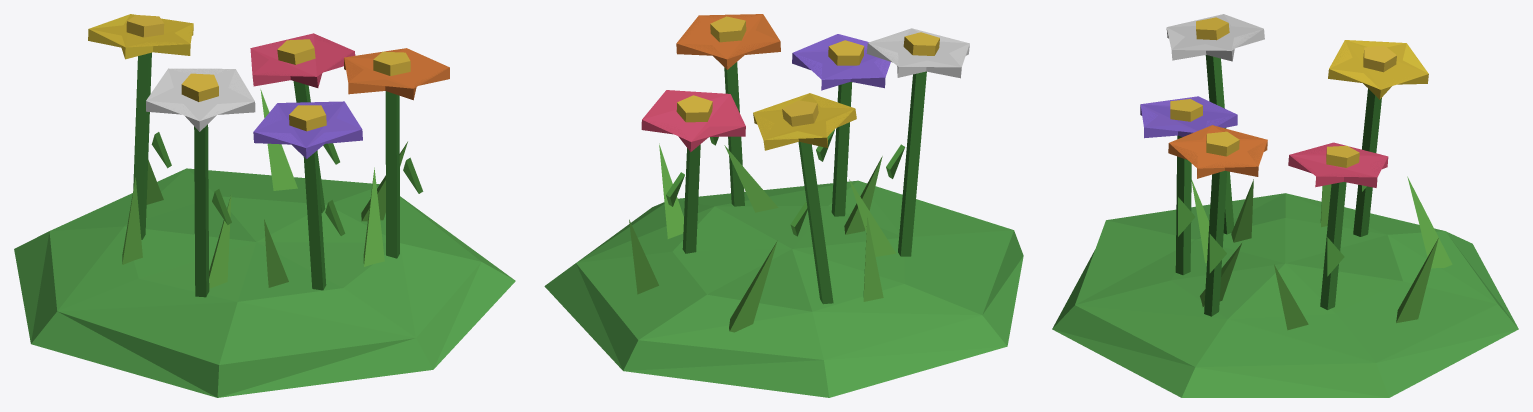
The model's file is Prop_Flowers.fbx.
3 views of the same model, side by side, from view 1: azimuth 30°, elevation 25°; view 2: azimuth 150°, elevation 25°; view 3: azimuth 270°, elevation 25° (orthographic). The views are drawn at different scales.
Parts seen in each view (by area): view 1: Body; view 2: Body; view 3: Body.
Part boxes in pixels (x1,y1,x2,y2): Body: [14, 14, 515, 397]; Body: [544, 14, 1023, 397]; Body: [1052, 14, 1518, 397].
Size of the model in its own units: 2.76 by 1.61 by 2.83.
